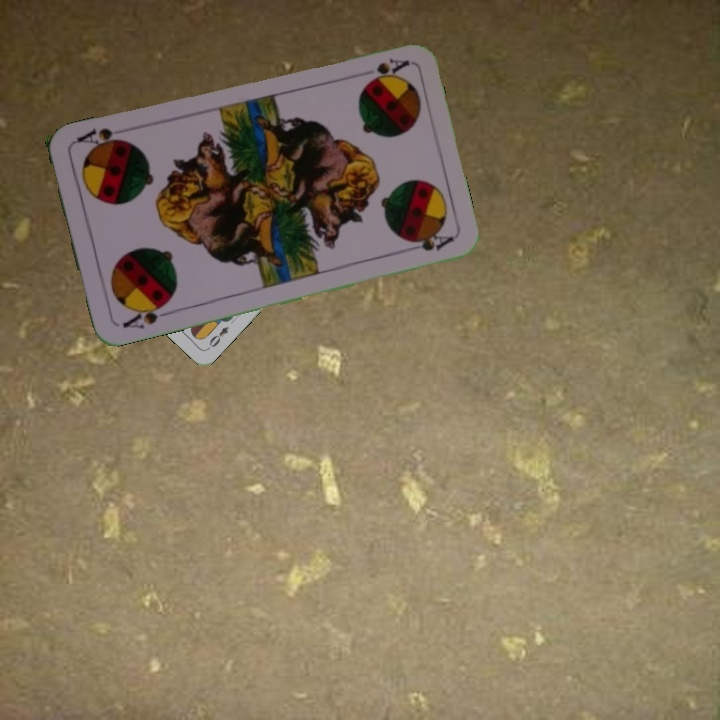EO: (203, 322, 231, 352)
SA: (118, 297, 174, 332), (363, 54, 411, 85)
